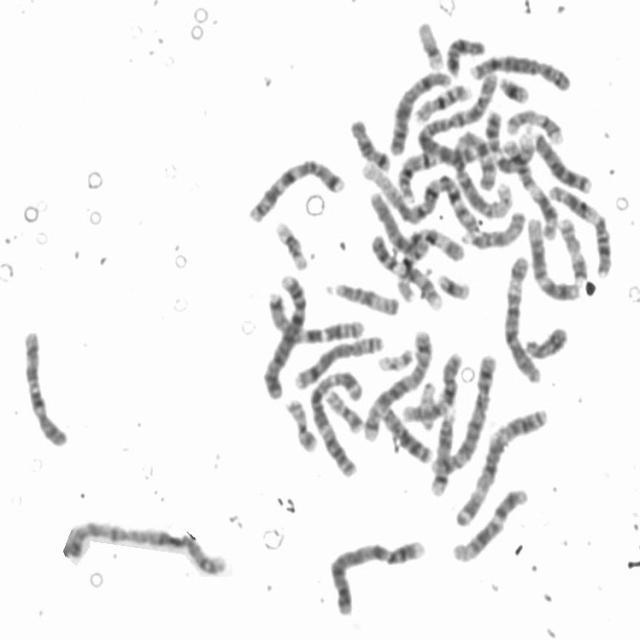A1: (359, 159, 484, 233), (450, 127, 516, 220)
A2: (61, 515, 230, 579), (412, 70, 501, 179)
A3: (450, 401, 551, 528), (306, 364, 364, 478)
B4: (326, 532, 429, 618), (258, 269, 309, 400)
B5: (426, 348, 498, 480), (360, 326, 434, 444)
C10: (18, 324, 71, 449), (397, 346, 463, 424)
C11: (546, 179, 615, 279), (498, 133, 560, 241)
C12: (448, 484, 530, 564), (523, 210, 583, 301)
C6: (367, 186, 462, 265), (500, 250, 545, 385)
C7: (244, 152, 348, 224), (264, 287, 368, 344)
C8: (291, 330, 386, 391), (465, 48, 572, 92)
C9: (368, 229, 444, 311), (483, 109, 539, 174)
D13: (530, 126, 594, 194), (377, 401, 435, 464)
D14: (426, 403, 460, 498), (395, 146, 441, 202)
D15: (322, 276, 402, 317), (458, 206, 527, 250)
E16: (411, 78, 474, 124), (395, 243, 431, 304)
E17: (501, 103, 566, 145), (556, 212, 590, 284)
E18: (347, 114, 392, 173), (443, 32, 488, 76)
F19: (271, 216, 310, 271), (414, 16, 446, 72)
F20: (282, 392, 320, 453), (322, 386, 365, 434)
G21: (433, 269, 473, 301), (495, 71, 531, 105)
G22: (374, 343, 416, 372), (416, 377, 437, 432)
X: (386, 66, 454, 158)
Y: (521, 320, 570, 361)
